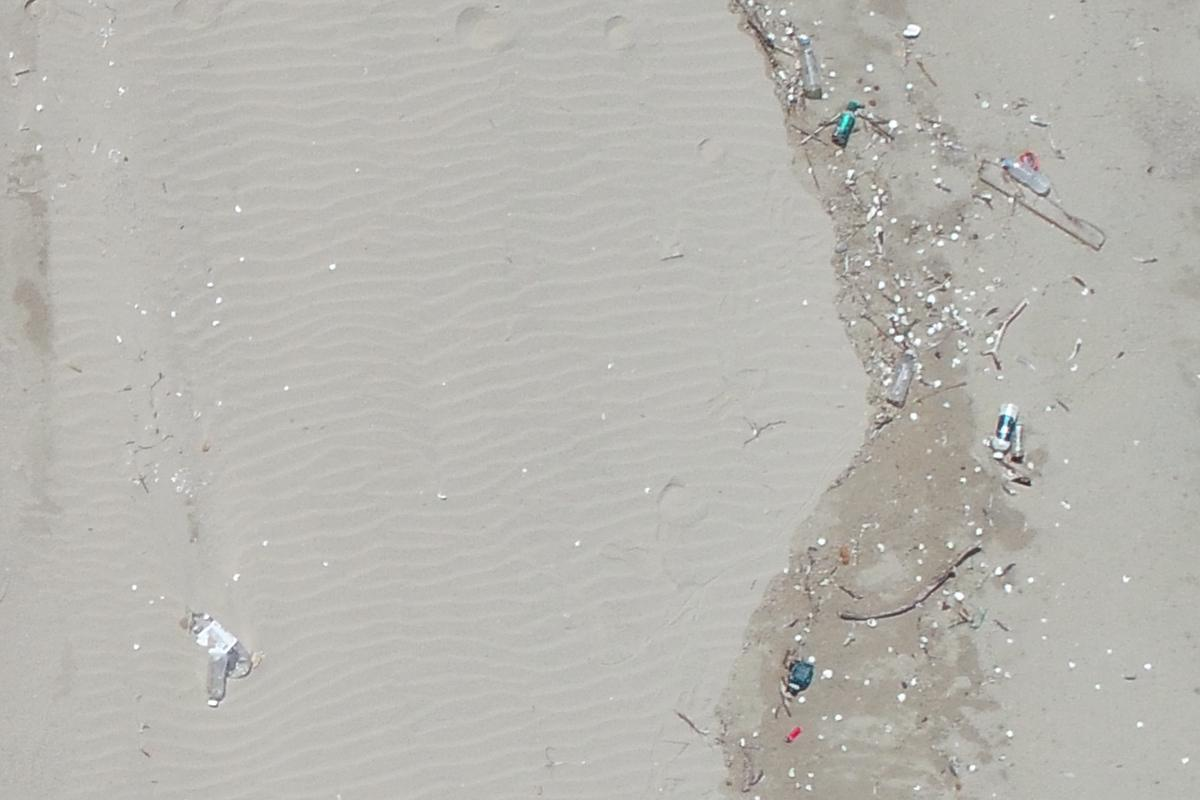(11)PET_Bottle: (999, 157, 1047, 198), (989, 403, 1020, 465), (884, 348, 915, 402), (798, 36, 825, 94), (832, 101, 857, 149)
